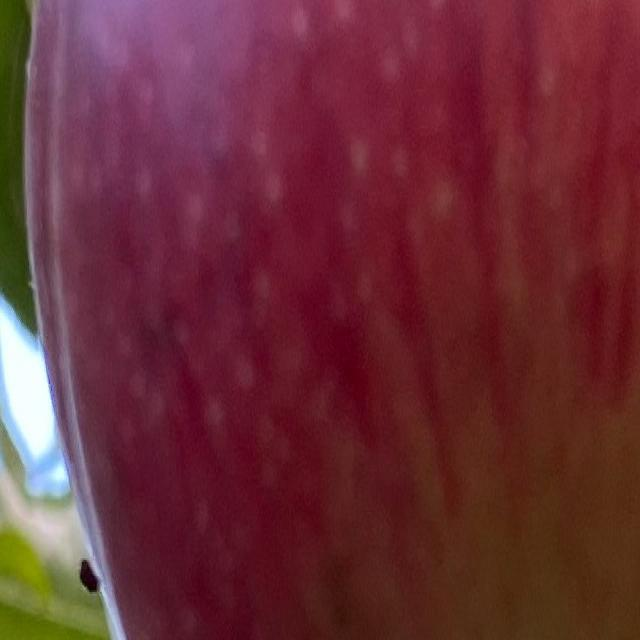Apples: (29, 0, 639, 638)
